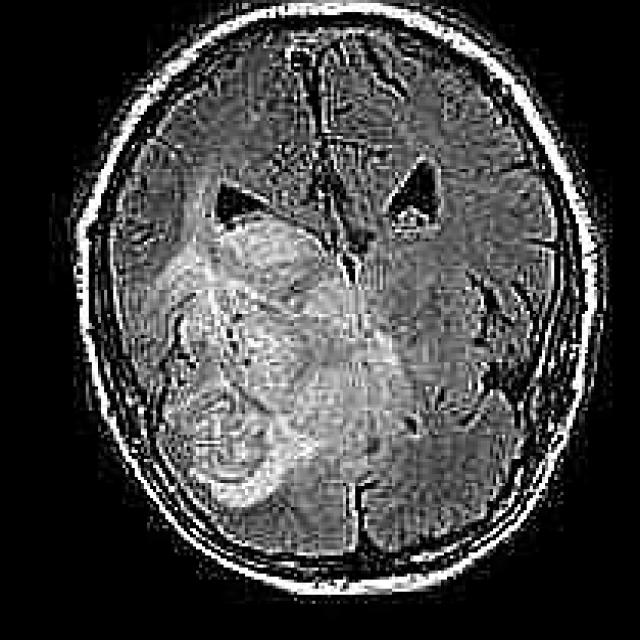Tumor-Cell: (150, 218, 391, 501)
